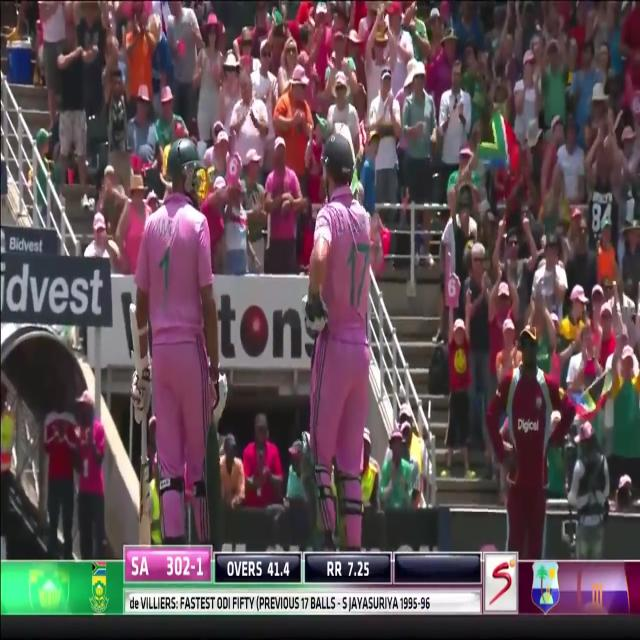Ball: (132, 138, 231, 554), (304, 136, 379, 554)
Fielder: (484, 318, 585, 558)
